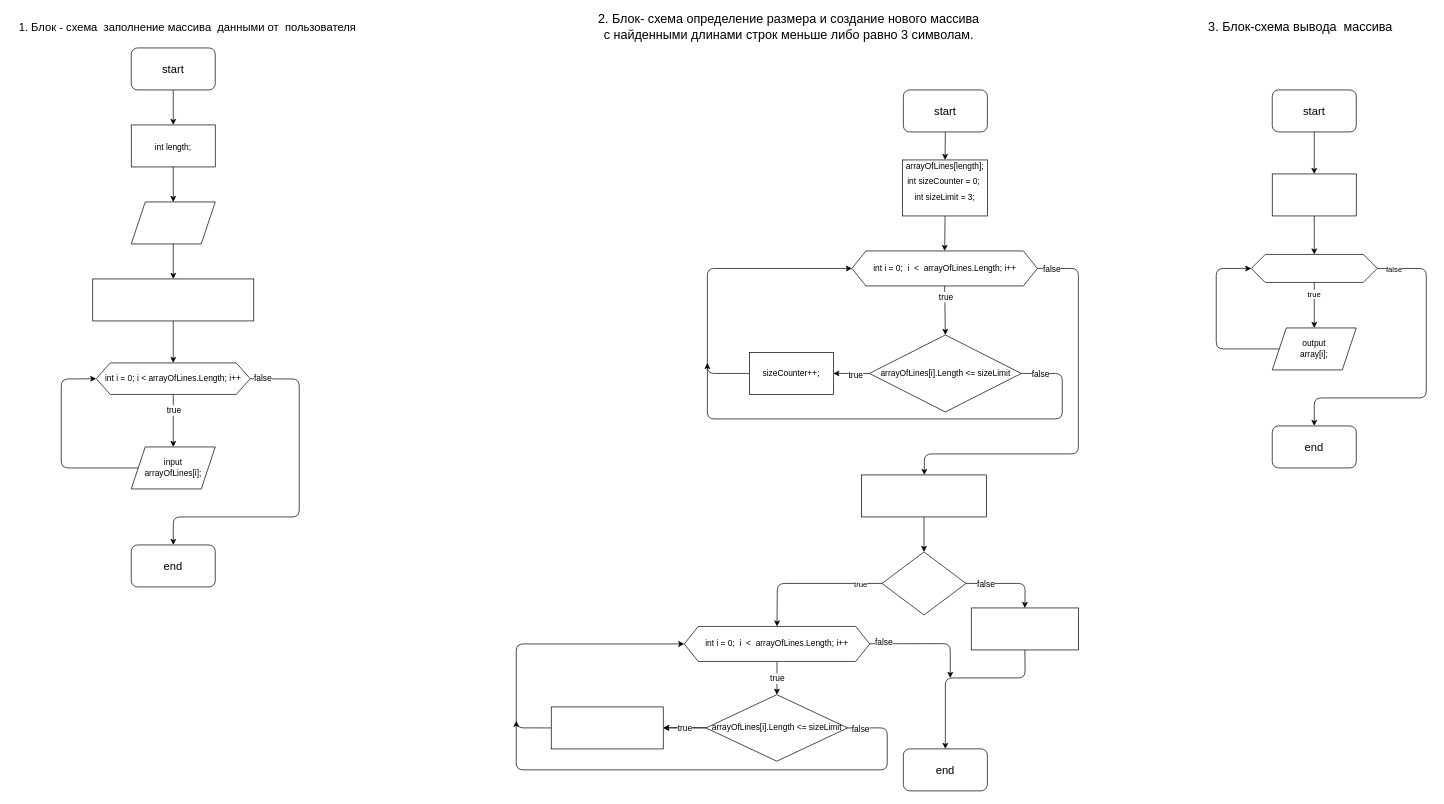
The diagram is 1444 pixels wide and 804 high, and some of its shapes have lost their labels. Here are the shapes that lost their labels. From the top down, the centre of each, then its label:
pixel 1314 194: string[] array;
pixel 173 222: input length;
pixel 1314 268: int i = 0; i < array.Length; i++
pixel 173 299: string[] arrayOfLines = new string[length];
pixel 924 495: string[] arrayWithResult = new string[sizeCounter]; int count = 0;
pixel 923 583: sizeCounter != 0
pixel 1024 628: string[] arrayEmptyLine;
pixel 607 727: arrayWithResult[count] = arrayOfLines[i]; count++;
